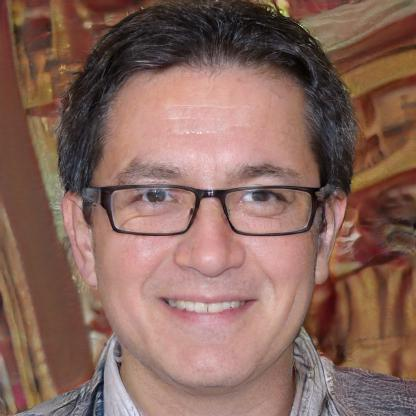glasses: (96, 179, 316, 238)
